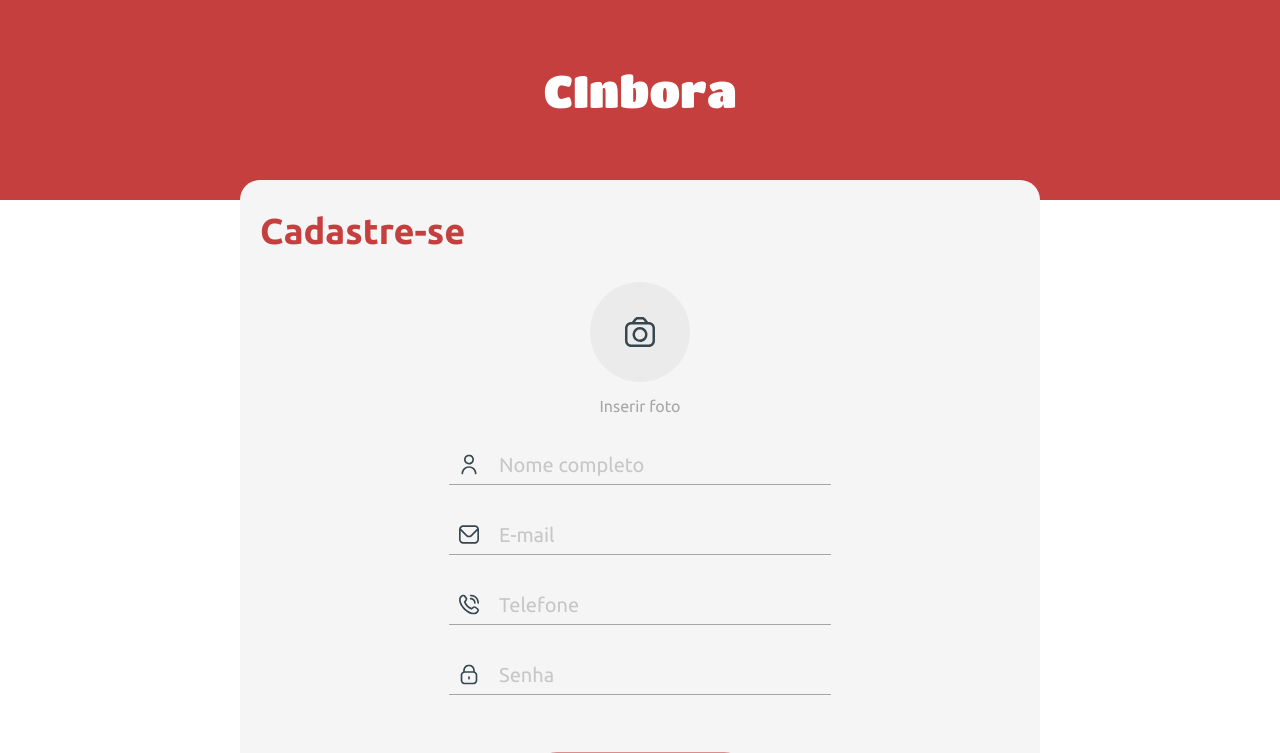
Scenario: Sign up › Should show error mensage in name if its empty
Type "Fulano de tal" into the field with placeholder "Nome completo" at (660, 465), box x1=499 y1=445 x2=821 y2=484
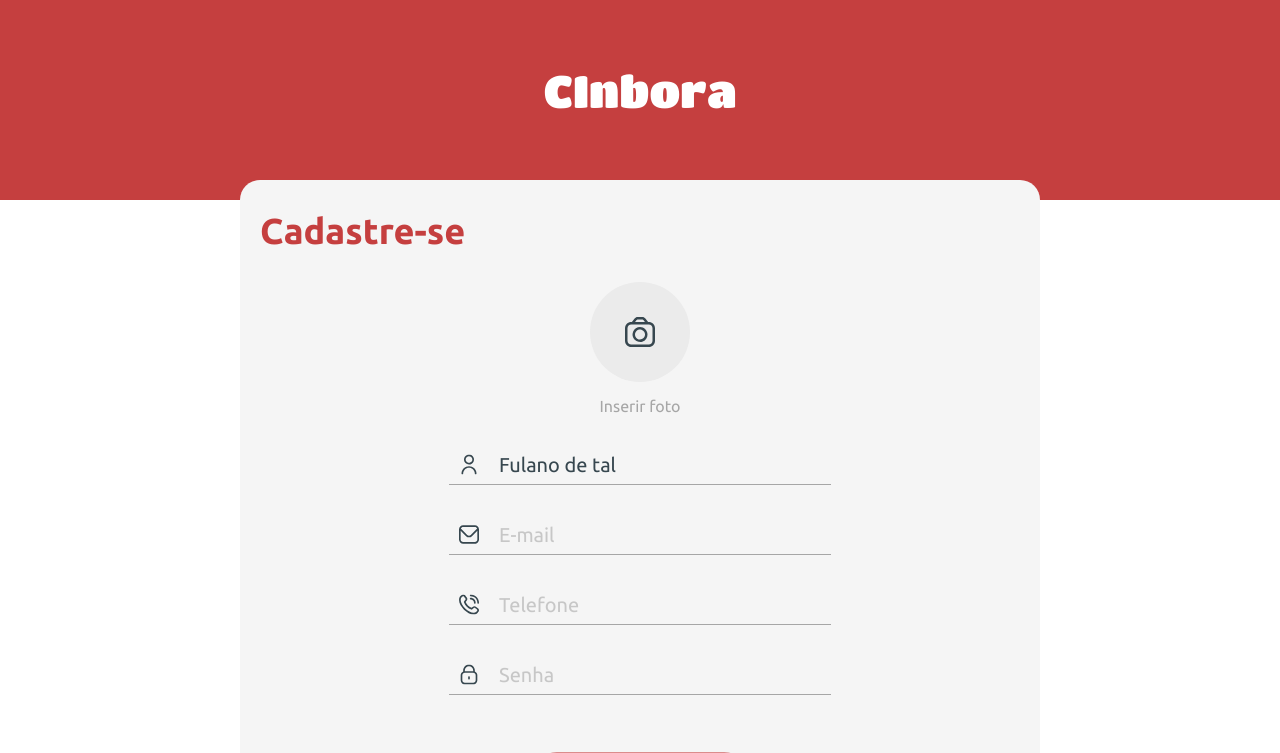
Clear the field with placeholder "Nome completo" at (660, 465), box x1=499 y1=445 x2=821 y2=484
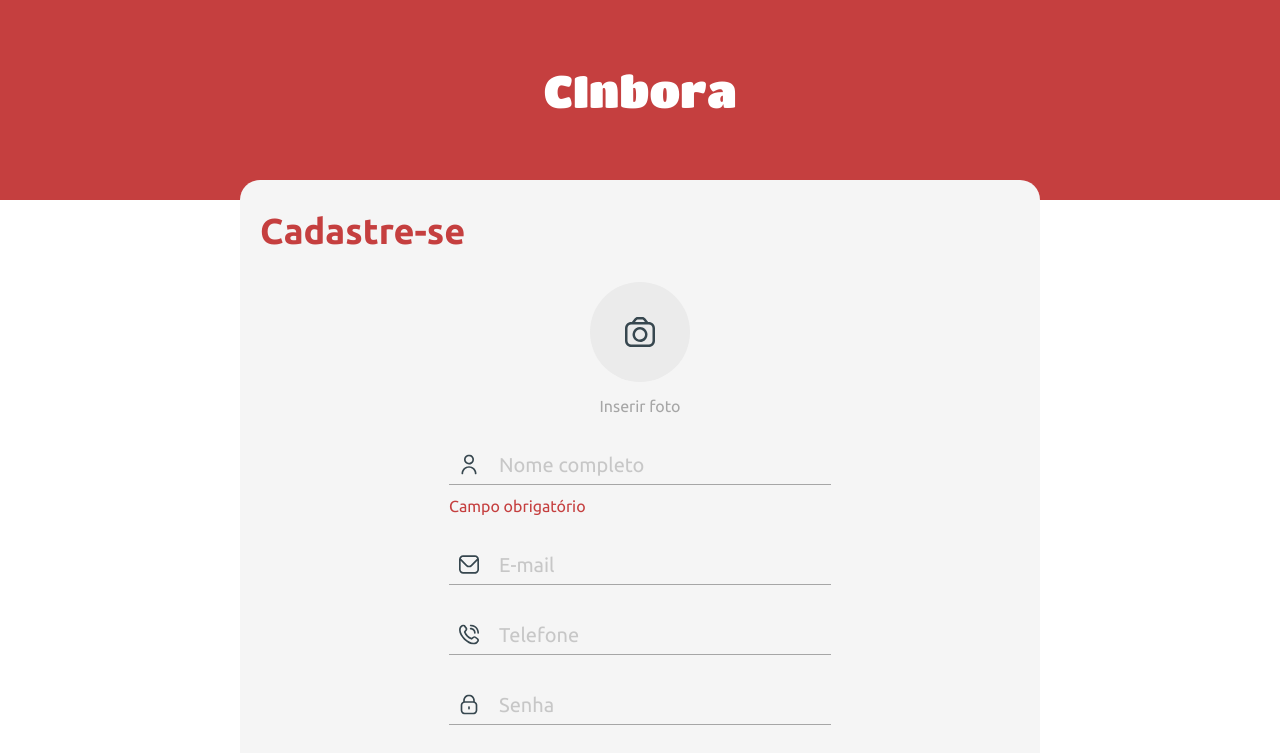
Now the text "Campo obrigatório" is shown, box x1=449 y1=497 x2=586 y2=515
